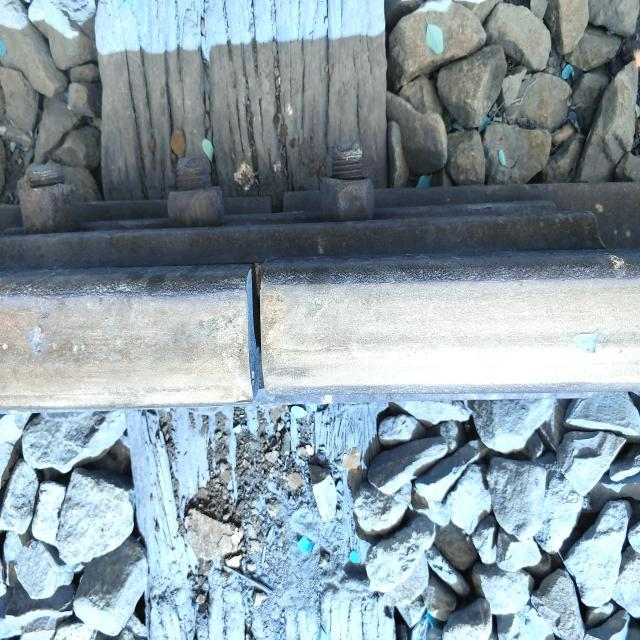Defective Joint: (7, 160, 616, 467)
